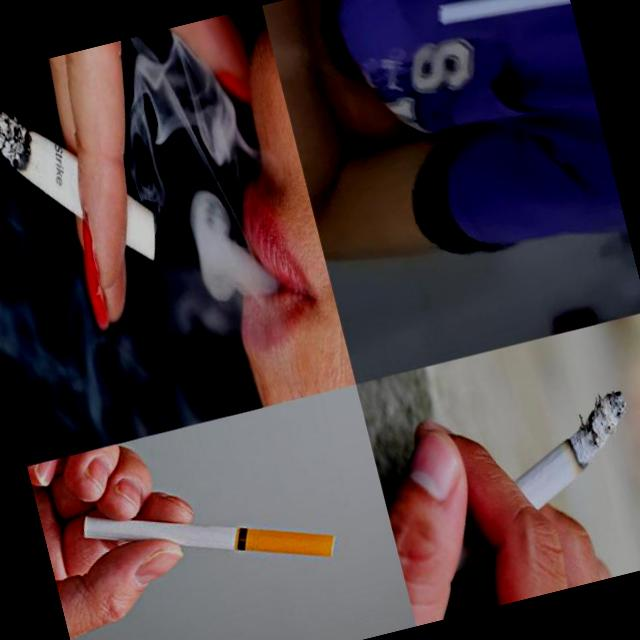cigarette: (406, 387, 640, 580), (75, 456, 344, 618), (0, 61, 165, 296), (429, 0, 573, 46)
